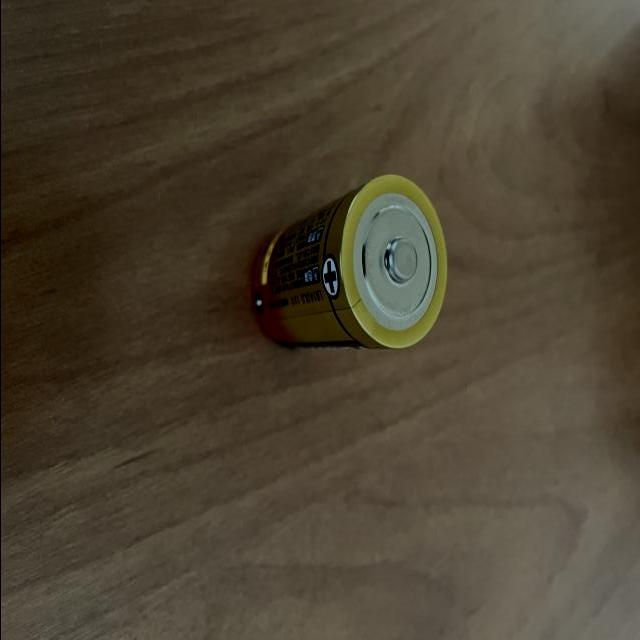AA: (247, 161, 456, 366)
